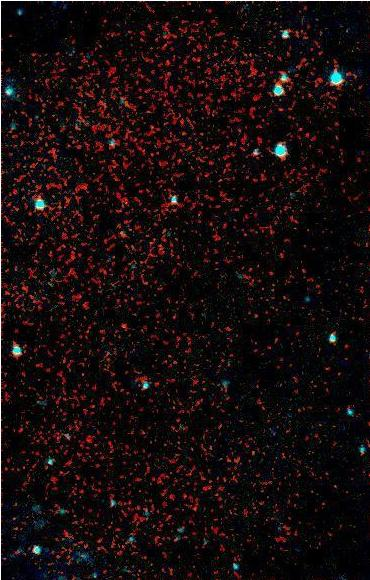star: (105, 307, 135, 337)
